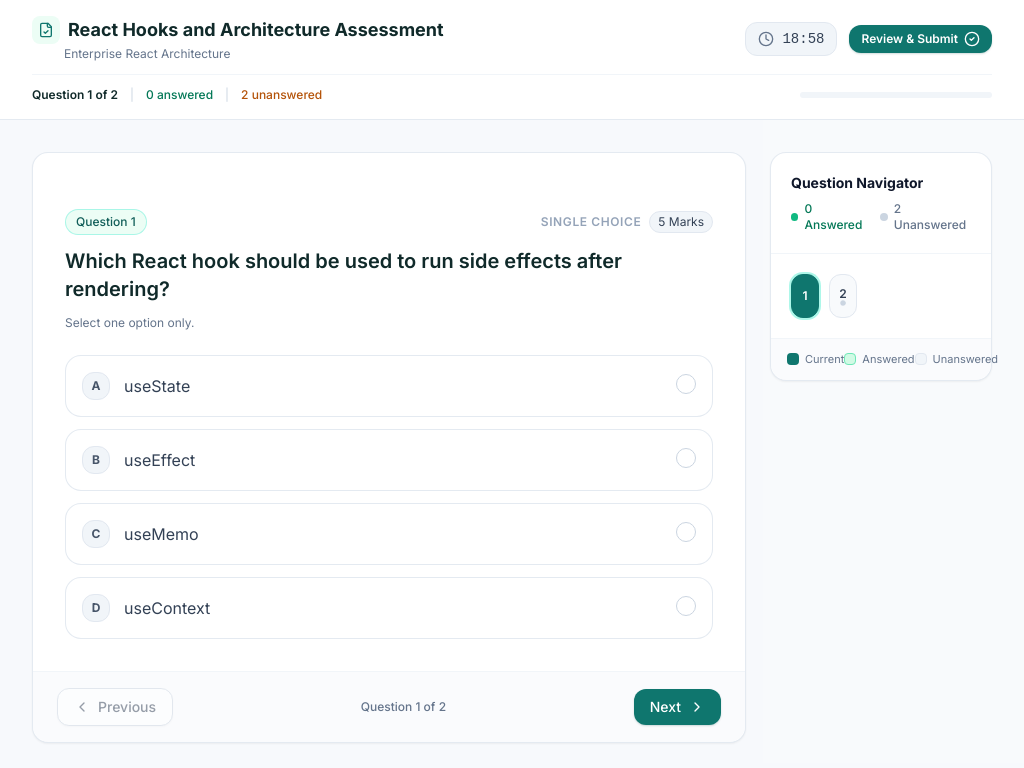
AssessmentPlayerPage › opens submission review modal and warns about unanswered questions
Click the button "Review & Submit".
click(921, 39)  # box [850,25,992,53]
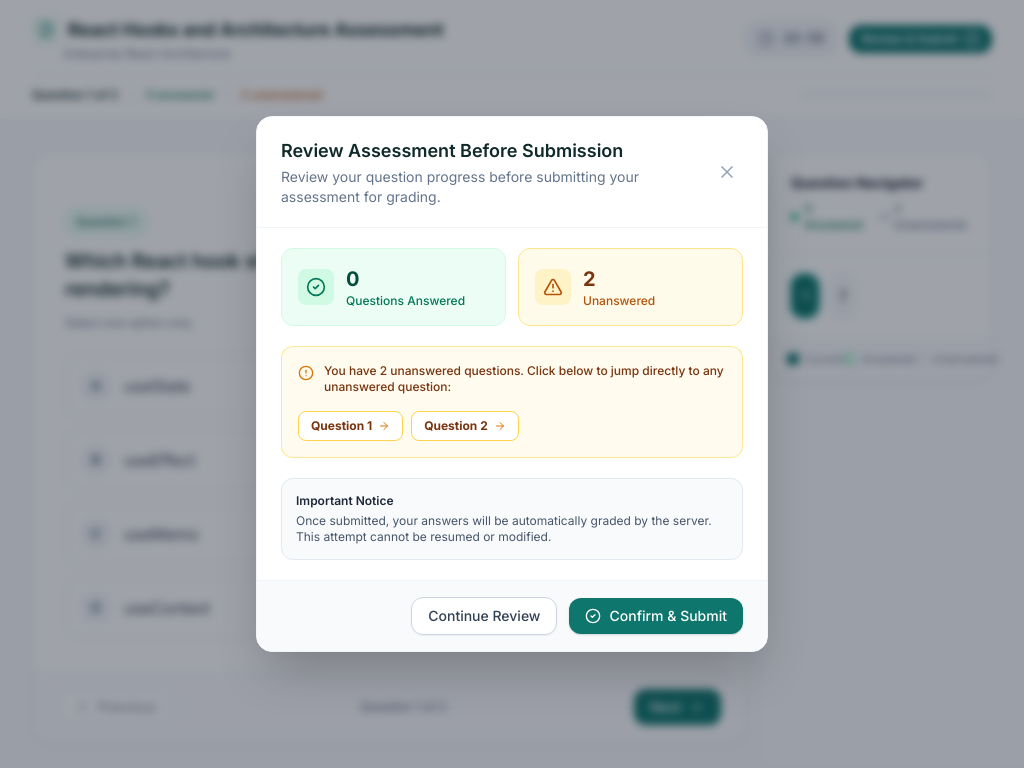
Now the element with test id "assessment-review-modal" is shown, box [281,248,743,560]
Now the text "You have 2 unanswered questions" is shown, box [324,363,726,395]
Now the text "Continue Review" is shown, box [428,606,540,626]
